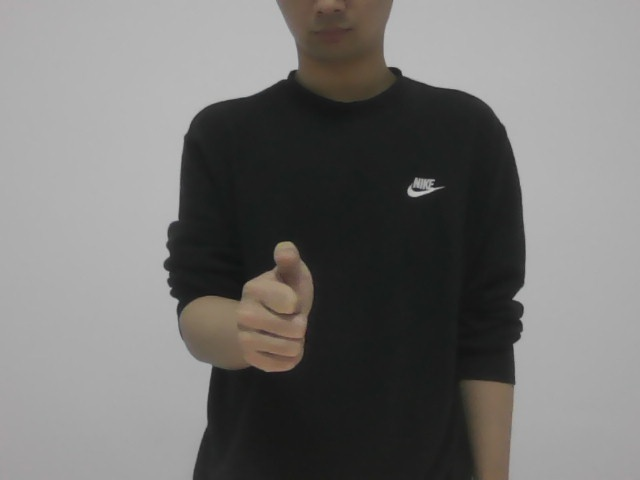thank you: (231, 245, 316, 375)
